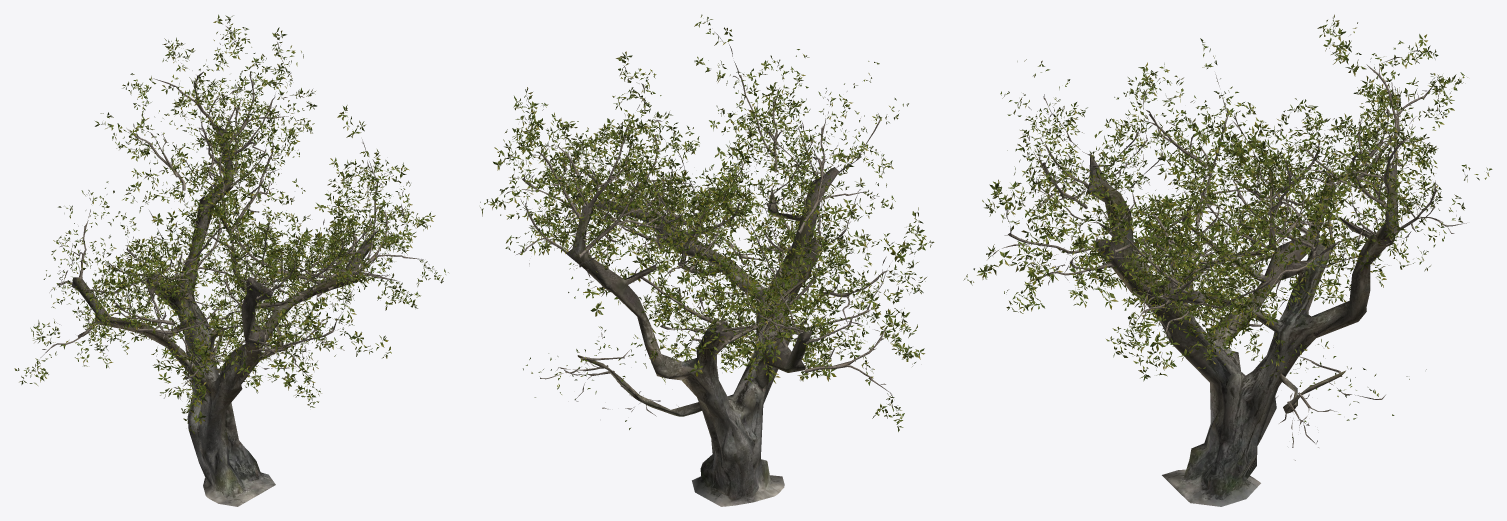
Rendered from leafy-tree-01.glb.
3 renders of one model, left to right at view 1: azimuth 30°, elevation 25°; view 2: azimuth 150°, elevation 25°; view 3: azimuth 270°, elevation 25°, orthographic. The views are drawn at different scales.
Parts seen in each view (by area): view 1: island_tree_01_LOD0; view 2: island_tree_01_LOD0; view 3: island_tree_01_LOD0.
Part boxes in pixels (box(x1,y1,x2,y2)): island_tree_01_LOD0: box(14, 14, 448, 506); island_tree_01_LOD0: box(480, 14, 934, 506); island_tree_01_LOD0: box(963, 14, 1492, 506).
Bounding box in the file's own units: 4.74 × 5.02 × 4.81.
3 materials, 3 textured.
